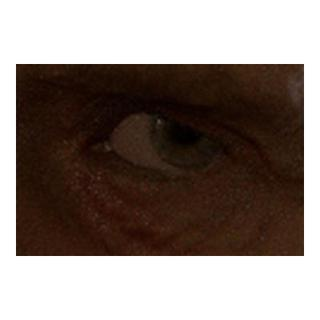pupil: (171, 111, 203, 142)
